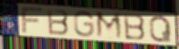B: (46, 7, 71, 37), (122, 12, 147, 41)
F: (20, 7, 46, 35)
G: (73, 10, 96, 39)
M: (95, 10, 125, 41)
Q: (148, 15, 173, 43)
